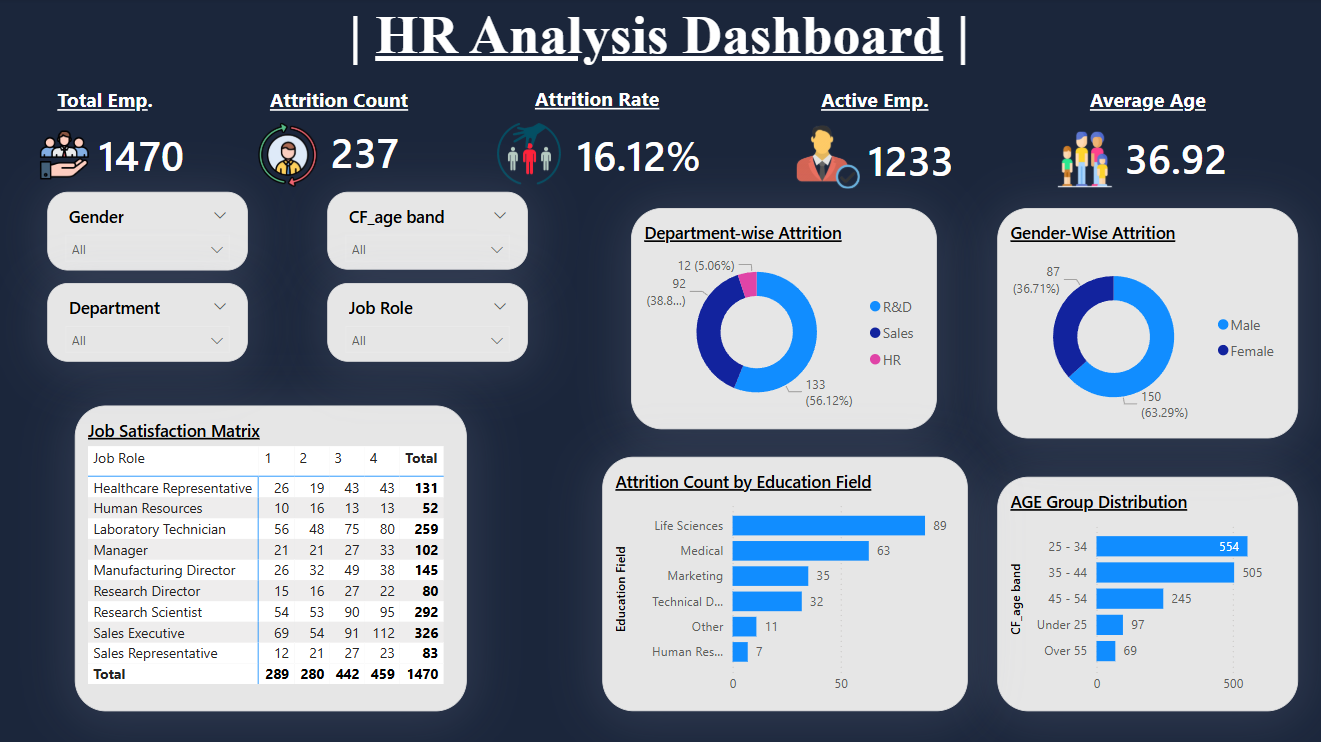

Layout of this report page (visuals, bound fields, positions):
{"tool":"powerbi","page":{"name":"Page 1","canvas":[1280,720],"ordinal":0},"visuals":[{"type":"textbox","box":[0,0,1280.2,75.1],"z":0},{"type":"card","fields":{"Values":["HR Data xlsx - HR data.Total_Emp"]},"box":[54.8,116.8,171.7,67.9],"z":1000},{"type":"image","box":[0,122.8,132.3,57.2],"z":2000},{"type":"image","box":[226.5,115.6,109.7,71.5],"z":3000},{"type":"image","box":[455.4,115.6,119.2,69.1],"z":4000},{"type":"image","box":[990.6,124,121.6,63.2],"z":5000},{"type":"image","box":[762.9,118,82.2,70.3],"z":6000},{"type":"card","fields":{"Values":["HR Data xlsx - HR data.Attrition Count"]},"box":[269.4,116.8,174,62],"z":7000},{"type":"card","fields":{"Values":["HR Data xlsx - HR data.Attrition Rate"]},"box":[547.1,118,145.4,65.6],"z":8000},{"type":"card","fields":{"Values":["HR Data xlsx - HR data.Active_Emp"]},"box":[776,122.8,214.6,65.6],"z":9000},{"type":"card","fields":{"Values":["HR Data xlsx - HR data.Average_age"]},"box":[1043,114.4,190.7,78.7],"z":10000},{"type":"textbox","box":[54.8,81.1,171.7,42.9],"z":11000},{"type":"textbox","box":[259.9,81.1,172.8,59.6],"z":12000},{"type":"textbox","box":[515,79.9,195.5,42.9],"z":13000},{"type":"textbox","box":[791.5,81.1,183.6,41.7],"z":14000},{"type":"textbox","box":[1051.4,81.1,155,48.9],"z":15000},{"type":"donutChart","title":"Department-wise Attrition","fields":{"Category":["HR Data xlsx - HR data.Department"],"Series":["HR Data xlsx - HR data.Department"],"Y":["CountNonNull(HR Data xlsx - HR data.emp no)"]},"box":[612.5,202.5,295,213.8],"z":16000},{"type":"clusteredBarChart","title":"AGE Group Distribution","fields":{"Category":["HR Data xlsx - HR data.CF_age band"],"Y":["CountNonNull(HR Data xlsx - HR data.emp no)"]},"box":[966.2,462.5,290,226.2],"z":17000},{"type":"donutChart","title":"Gender-Wise Attrition","fields":{"Category":["HR Data xlsx - HR data.Gender"],"Y":["Sum(HR Data xlsx - HR data.Employee Count)"]},"box":[966.2,202.5,290,222.5],"z":18000},{"type":"pivotTable","title":"Job Satisfaction Matrix","fields":{"Rows":["HR Data xlsx - HR data.Job Role"],"Columns":["HR Data xlsx - HR data.Job Satisfaction"],"Values":["Sum(HR Data xlsx - HR data.Employee Count)"]},"box":[76.2,393.8,378.8,295],"z":19000},{"type":"barChart","fields":{"Category":["HR Data xlsx - HR data.Education Field"],"Y":["HR Data xlsx - HR data.Attrition Count"]},"box":[585.3,442.2,352.8,245.6],"z":21000},{"type":"slicer","fields":{"Values":["HR Data xlsx - HR data.Gender"]},"box":[50,187.5,193.8,76.2],"z":22000},{"type":"slicer","fields":{"Values":["HR Data xlsx - HR data.Department"]},"box":[50,275,193.8,76.2],"z":23000},{"type":"slicer","fields":{"Values":["HR Data xlsx - HR data.CF_age band"]},"box":[320,187.5,193.8,75],"z":24000},{"type":"slicer","fields":{"Values":["HR Data xlsx - HR data.Job Role"]},"box":[320,275,193.8,76.2],"z":25000}]}

Visuals, with their boxes in screenshot pixels (x1, y1, x2, y2), scaled from the page's 1280x720 canvas onto the 1321x742 screenshot:
textbox: <bbox>0, 0, 1320, 77</bbox>
card - HR Data xlsx - HR data.Total_Emp: <bbox>57, 120, 234, 190</bbox>
image: <bbox>0, 127, 137, 185</bbox>
image: <bbox>234, 119, 347, 193</bbox>
image: <bbox>470, 119, 593, 190</bbox>
image: <bbox>1022, 128, 1148, 193</bbox>
image: <bbox>787, 122, 872, 194</bbox>
card - HR Data xlsx - HR data.Attrition Count: <bbox>278, 120, 458, 184</bbox>
card - HR Data xlsx - HR data.Attrition Rate: <bbox>565, 122, 715, 189</bbox>
card - HR Data xlsx - HR data.Active_Emp: <bbox>801, 127, 1022, 194</bbox>
card - HR Data xlsx - HR data.Average_age: <bbox>1076, 118, 1273, 199</bbox>
textbox: <bbox>57, 84, 234, 128</bbox>
textbox: <bbox>268, 84, 447, 145</bbox>
textbox: <bbox>531, 82, 733, 127</bbox>
textbox: <bbox>817, 84, 1006, 127</bbox>
textbox: <bbox>1085, 84, 1245, 134</bbox>
"Department-wise Attrition" donutChart: <bbox>632, 209, 937, 429</bbox>
"AGE Group Distribution" clusteredBarChart: <bbox>997, 477, 1296, 710</bbox>
"Gender-Wise Attrition" donutChart: <bbox>997, 209, 1296, 438</bbox>
"Job Satisfaction Matrix" pivotTable: <bbox>79, 406, 470, 710</bbox>
barChart - HR Data xlsx - HR data.Education Field x HR Data xlsx - HR data.Attrition Count: <bbox>604, 456, 968, 709</bbox>
slicer - HR Data xlsx - HR data.Gender: <bbox>52, 193, 252, 272</bbox>
slicer - HR Data xlsx - HR data.Department: <bbox>52, 283, 252, 362</bbox>
slicer - HR Data xlsx - HR data.CF_age band: <bbox>330, 193, 530, 271</bbox>
slicer - HR Data xlsx - HR data.Job Role: <bbox>330, 283, 530, 362</bbox>
